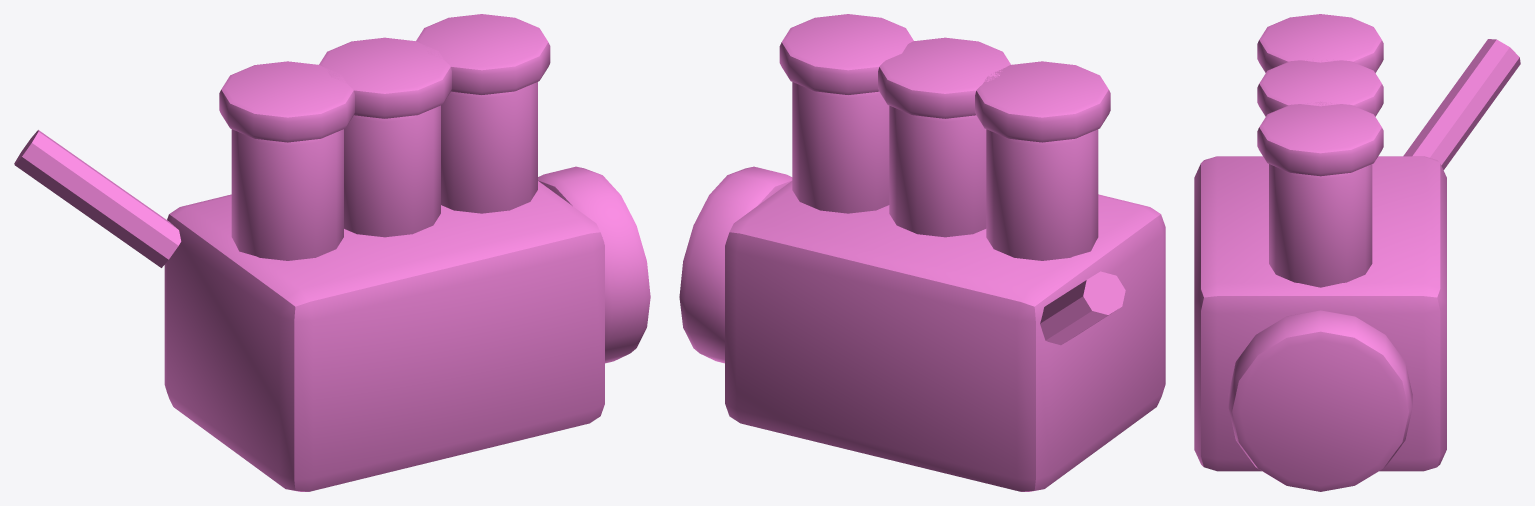
File: Item_Engine.fbx
The picture shows the model from 3 angles, left to right: view 1: azimuth 30°, elevation 25°; view 2: azimuth 150°, elevation 25°; view 3: azimuth 270°, elevation 25°; orthographic projection. The views are drawn at different scales.
Parts seen in each view (by area): view 1: Engine; view 2: Engine; view 3: Engine.
Part boxes in pixels (<box>): Engine: <box>14,14,650,491</box>; Engine: <box>679,14,1165,491</box>; Engine: <box>1194,14,1520,491</box>.
Size of the model in its own units: 4.59 by 3.12 by 2.84.
1 material, 1 textured.
